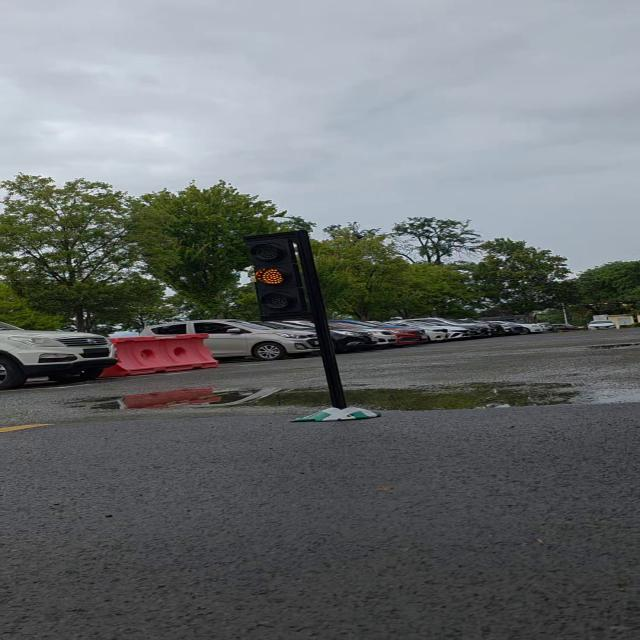yellow: (238, 232, 322, 328)
